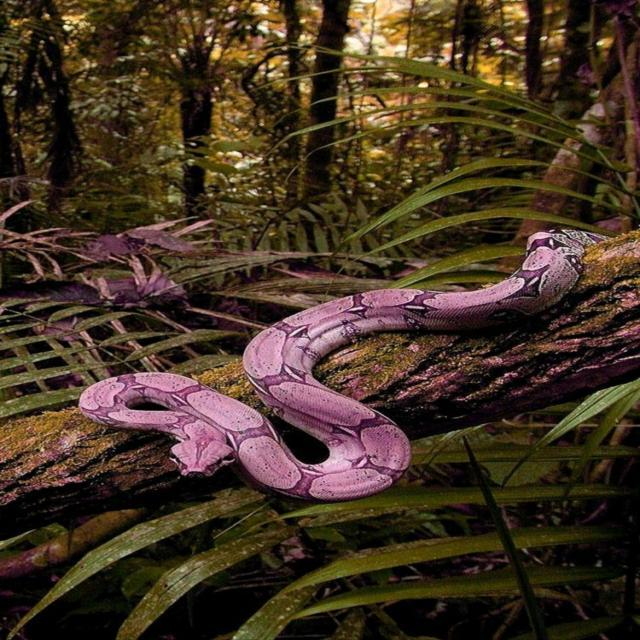Snake: (0, 202, 611, 526)
